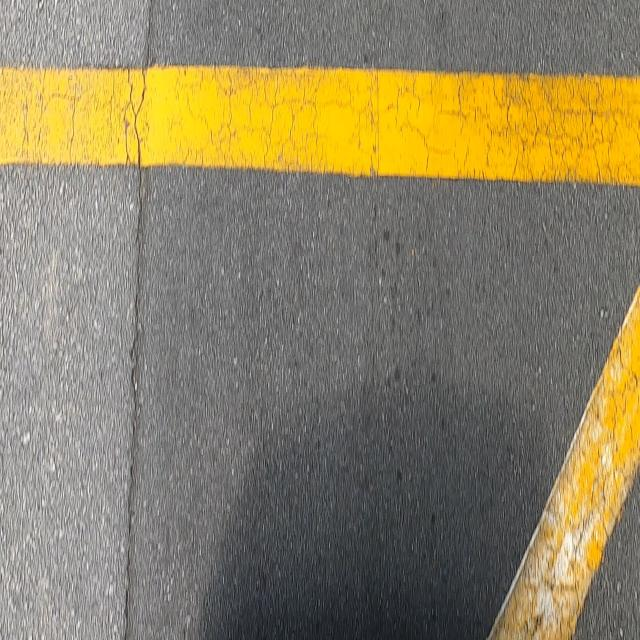Retak-Buaya: (208, 61, 636, 184)
Retak-Memanjang: (116, 3, 156, 640)
